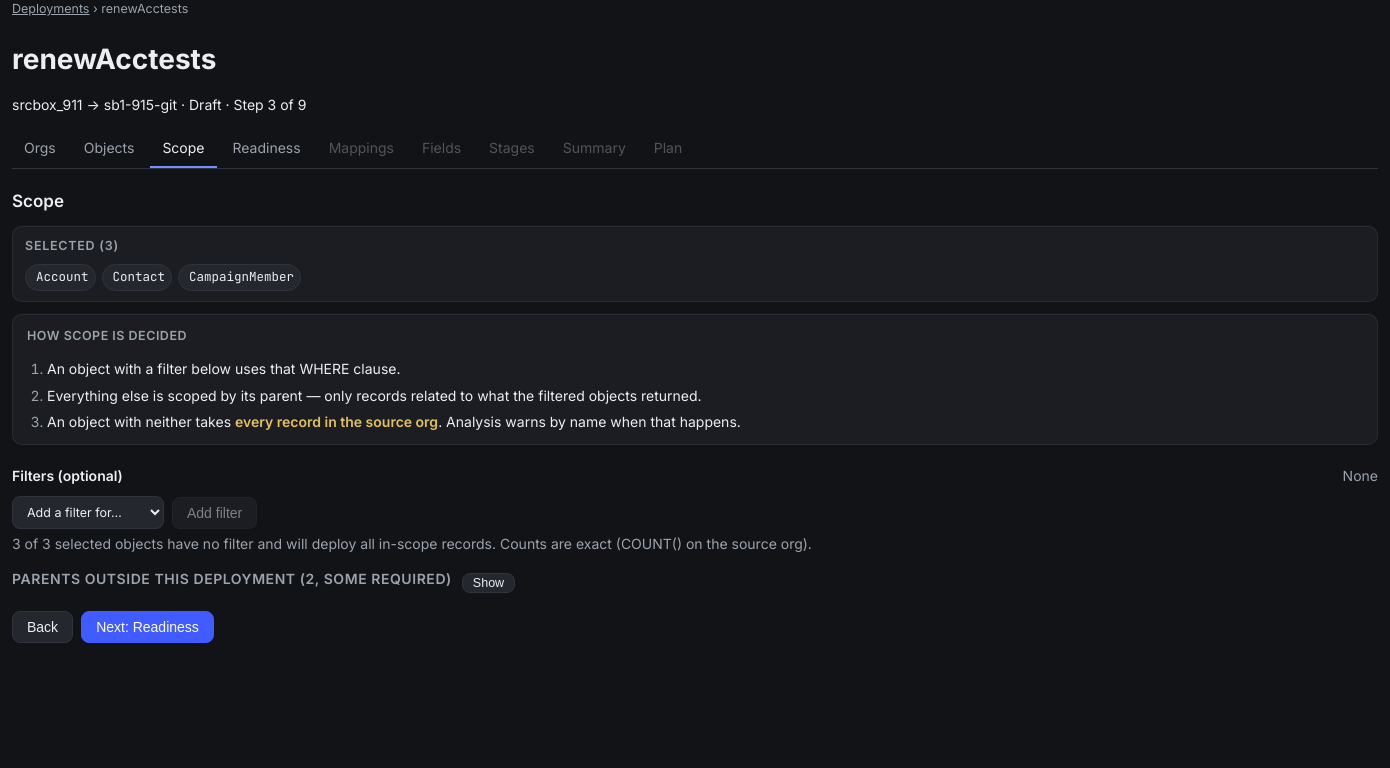
Test case: StepScope — S57 B2: parents outside this deployment › run 24: names Campaign as REQUIRED for CampaignMember and offers to add it
The image size is (1390, 768).
Step 1. Click the button "Show" → click(489, 583), box [462, 573, 515, 593]
(page scrolled)
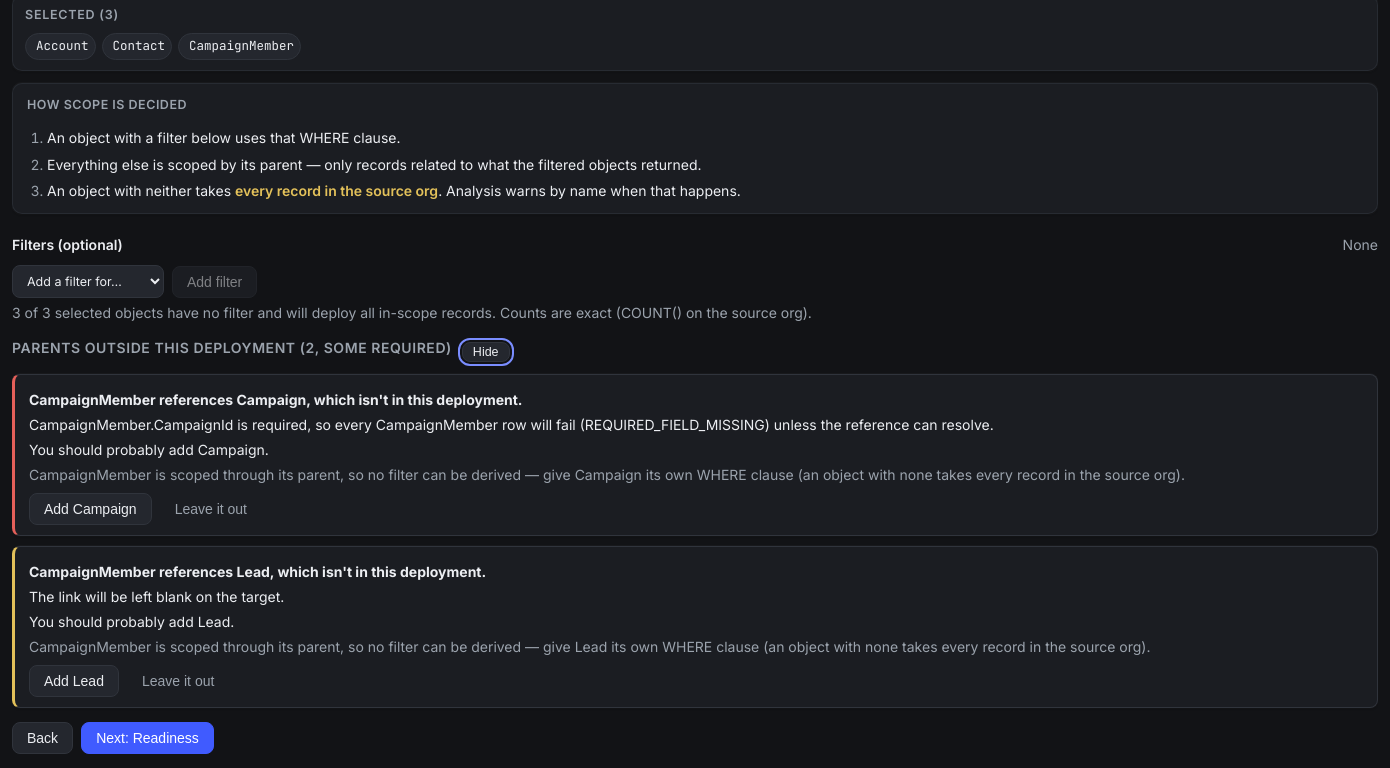
Expected: the element with test id "advisor-Campaign" shows "CampaignMember references Campaign, which isn't in this deployment.", [29, 391, 522, 408]
Expected: the element with test id "advisor-Campaign" shows "CampaignMember.CampaignId is required, so every CampaignMember row will fail", [29, 416, 994, 433]
Expected: the element with test id "advisor-Campaign" shows "You should probably add Campaign.", [29, 441, 269, 458]
